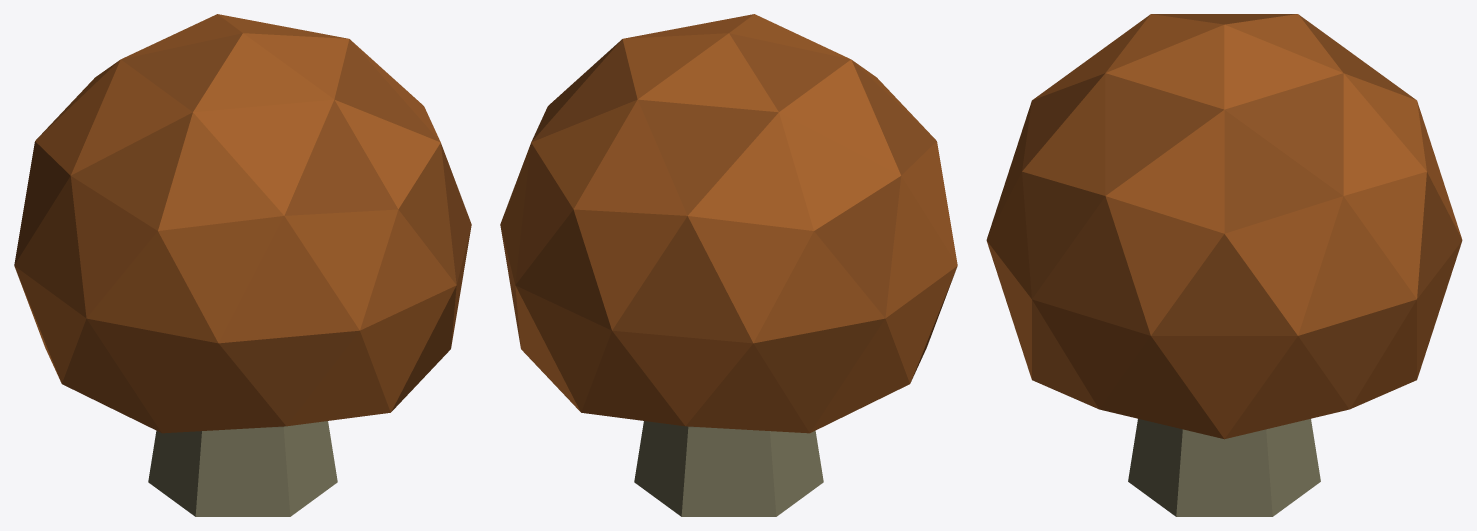
The model's file is Mushroom_1_Orange.fbx.
3 renders of one model, left to right at view 1: azimuth 30°, elevation 25°; view 2: azimuth 150°, elevation 25°; view 3: azimuth 270°, elevation 25°, orthographic.
Parts seen in each view (by area): view 1: Mushroom_1_Orange; view 2: Mushroom_1_Orange; view 3: Mushroom_1_Orange.
Boxes of the visible parts, bbox=[...] form: Mushroom_1_Orange: bbox=[14, 14, 471, 516]; Mushroom_1_Orange: bbox=[500, 14, 957, 516]; Mushroom_1_Orange: bbox=[986, 14, 1462, 516].
Size of the model in its own units: 46.91 by 52.26 by 49.33.
